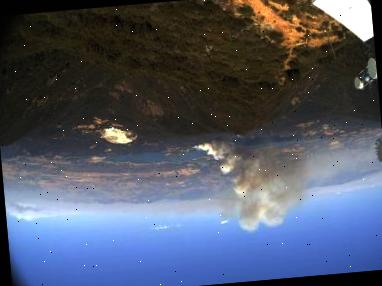smoke: (190, 129, 334, 240)
